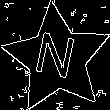N_S: (32, 30, 81, 88)
